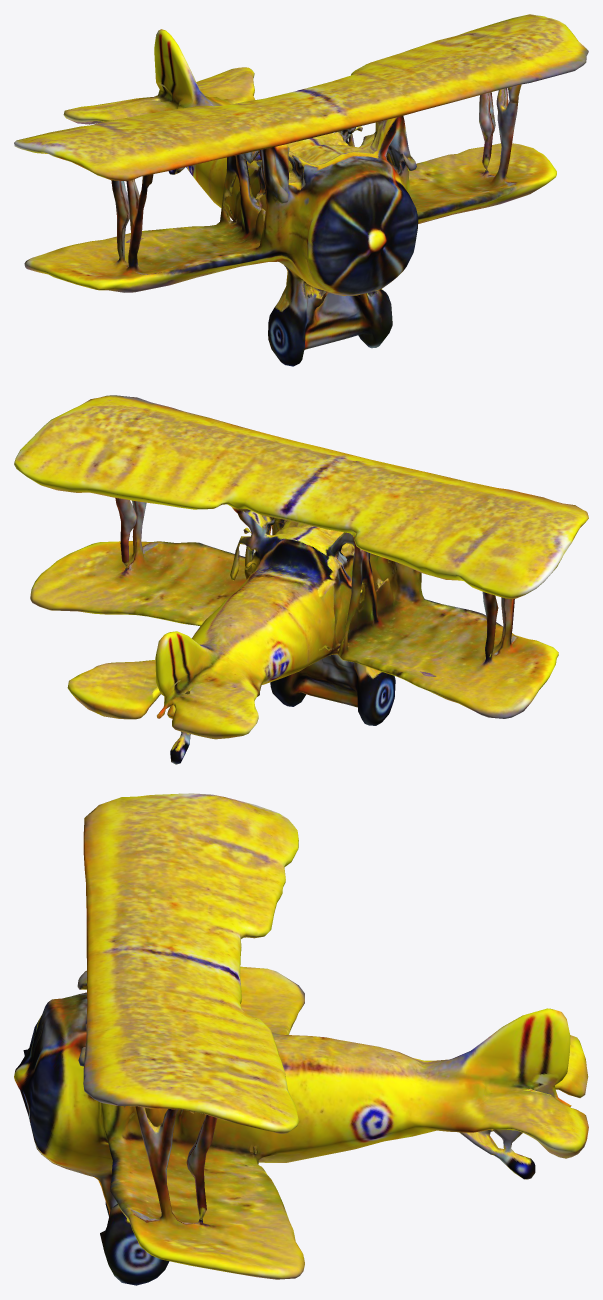
Rendered from biplane-medium.glb.
3 views of the same model, one above another, from view 1: azimuth 30°, elevation 25°; view 2: azimuth 150°, elevation 25°; view 3: azimuth 270°, elevation 25° (orthographic). The views are drawn at different scales.
Visible parts, largest first — view 1: mesh; view 2: mesh; view 3: mesh.
Part boxes in pixels (x1=…): mesh: x1=14, y1=14, x2=588, y2=366; mesh: x1=14, y1=395, x2=588, y2=764; mesh: x1=14, y1=793, x2=588, y2=1285.
Bounding box in the file's own units: 0.9997 × 0.4627 × 0.7606.
1 material, 1 textured.
